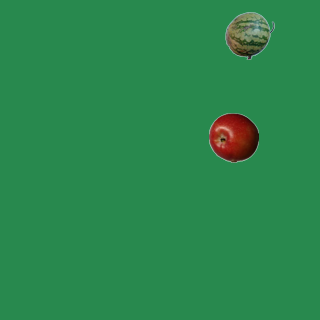Apple Braeburn: (208, 112, 258, 162)
Watermelon: (224, 10, 274, 60)
